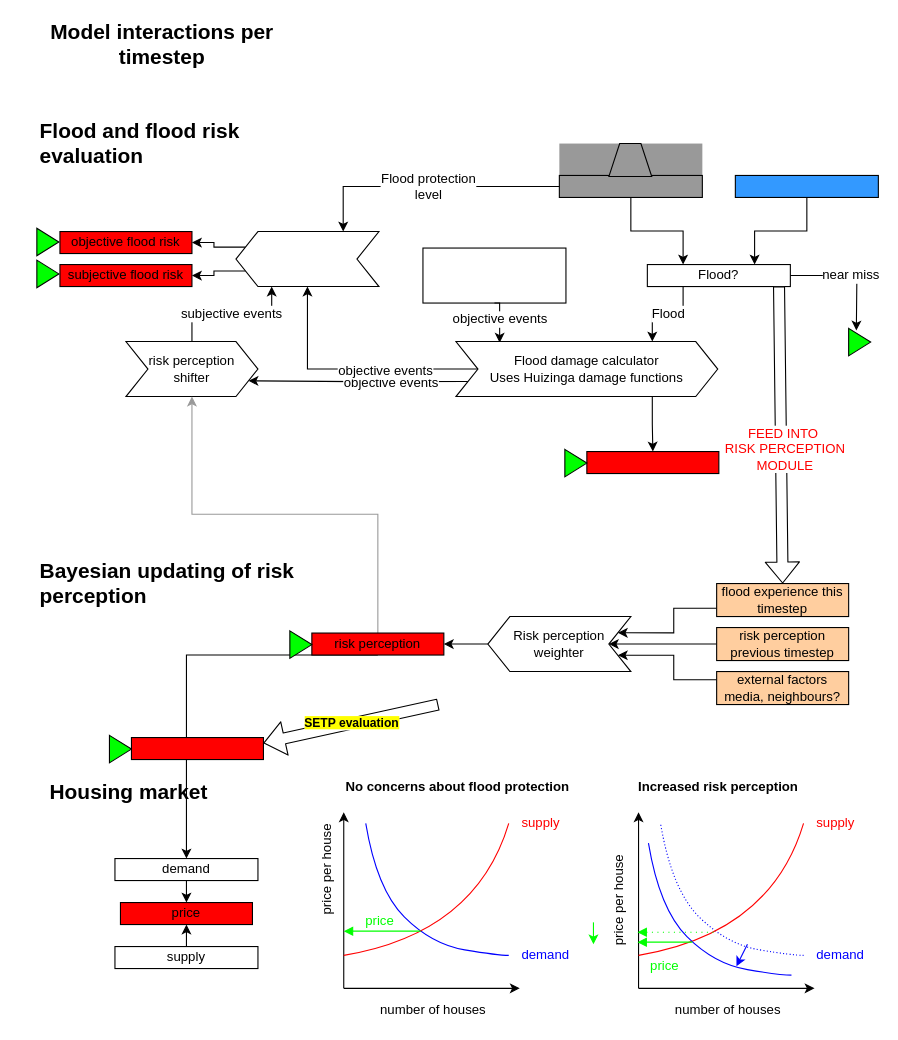
Image size: 898x1040. Some labels were removed from this diagram. The box of each missing label's shape, as (x1, y1, x2, y2) in pixels:
Dike height: (558, 174, 702, 197)
flood damage: (586, 450, 719, 474)
Flood risk evaluator: (235, 230, 379, 287)
Possible event generator (1:2, 1:5 ..., 1:1000): (422, 247, 566, 303)
trust parameter: (130, 736, 263, 760)
Water level: (734, 174, 878, 197)
